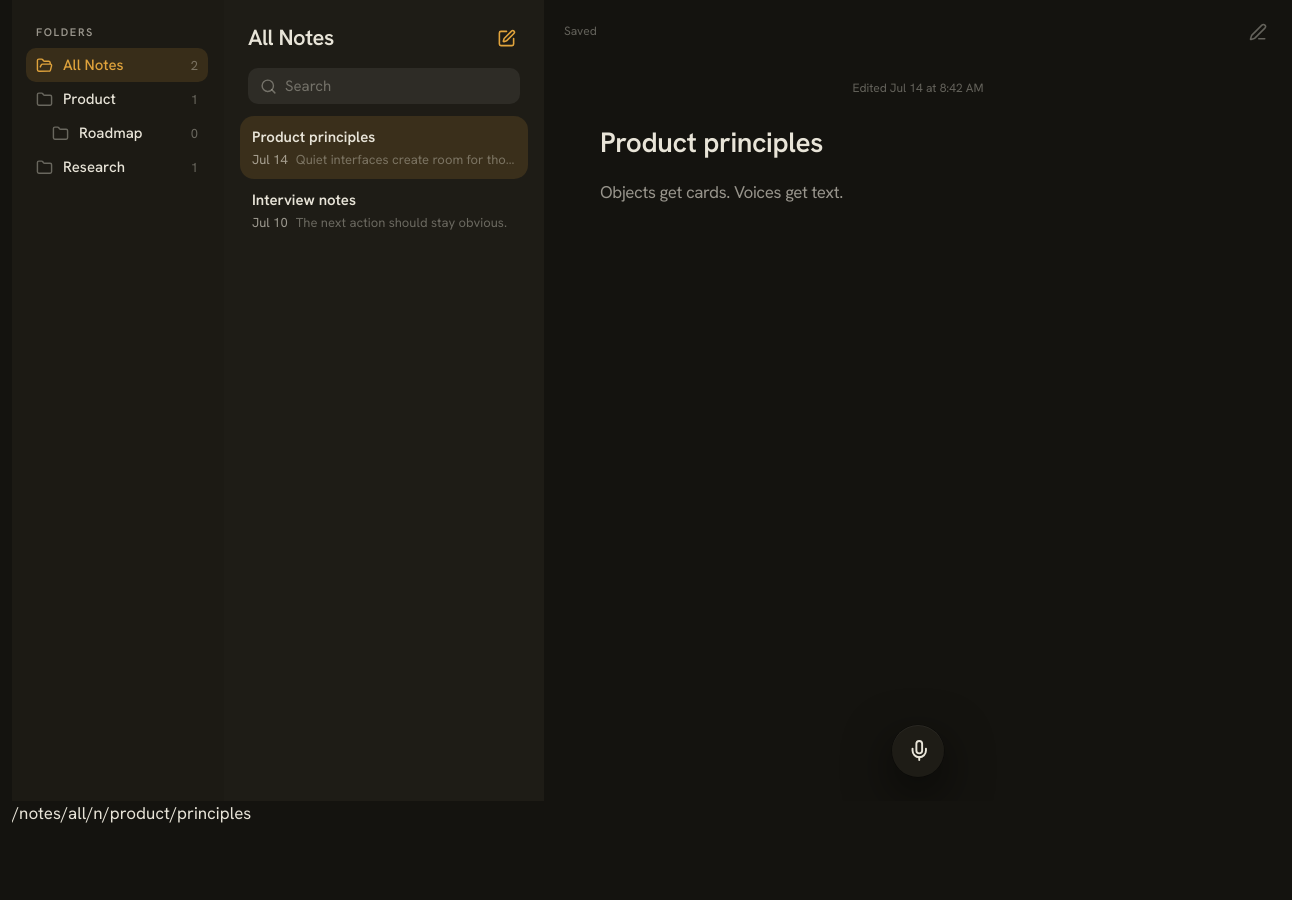
Scenario: Notes page › creates a new note inside the selected folder
This screenshot has width=1292, height=900.
Expected: the field showing "Product principles" is shown, [600,126,1236,158]
Click the button "Product 1".
click(117, 99)  # box [26,82,208,116]
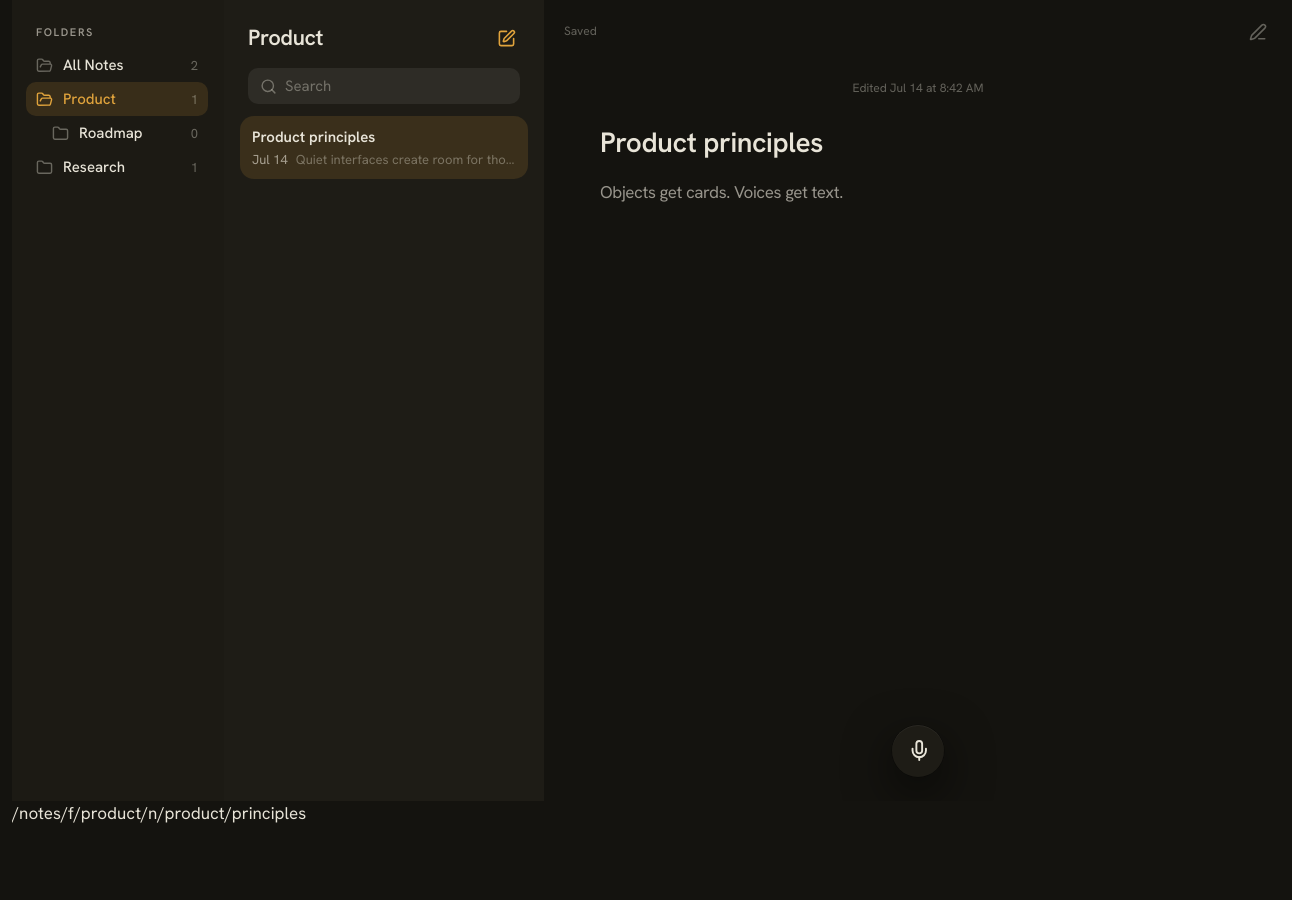
Click the button named "New note".
click(506, 38)  # box [488,20,524,56]
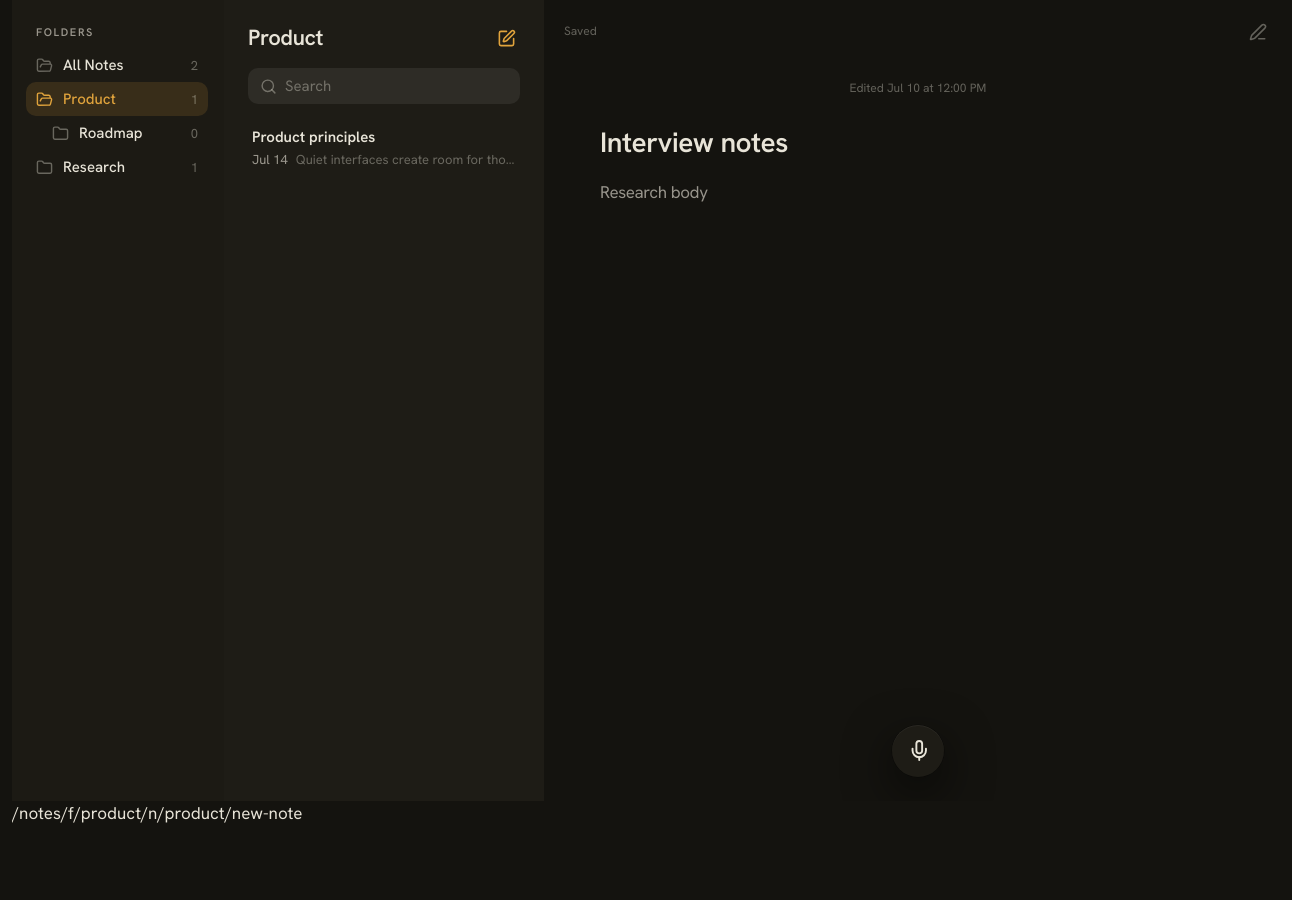
Expected: the text with test id "location" reads "/notes/f/product/n/product/new-note", [12,802,302,824]
